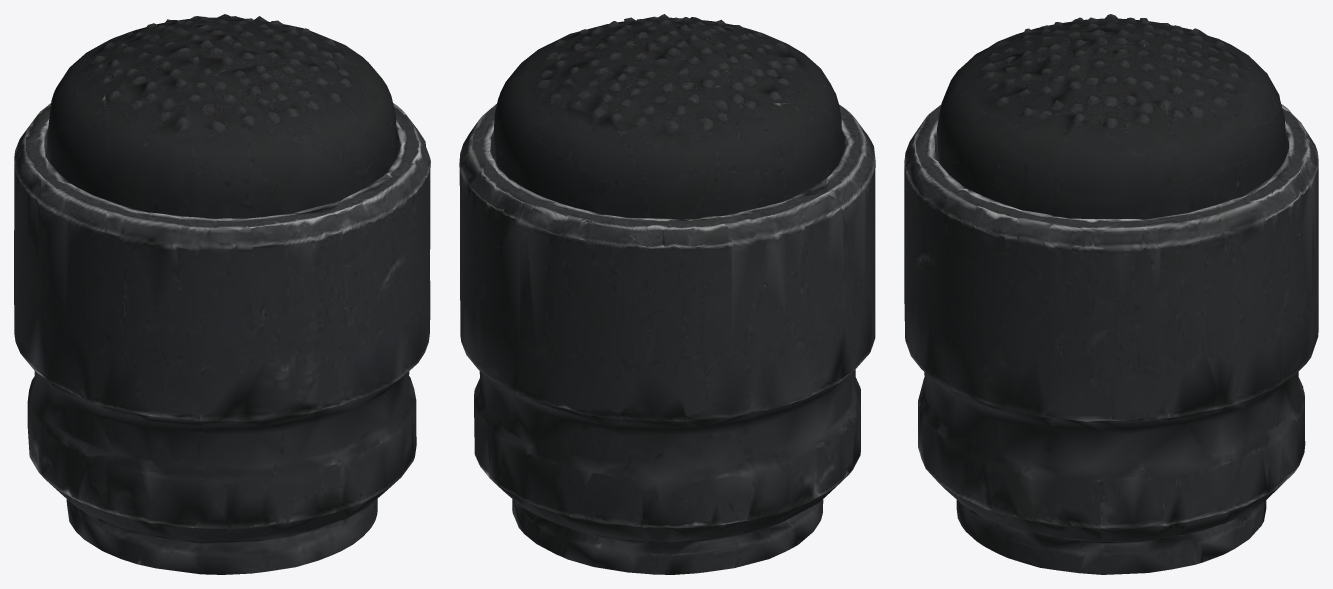
File: boton.glb
The picture shows the model from 3 angles, left to right: view 1: azimuth 30°, elevation 25°; view 2: azimuth 150°, elevation 25°; view 3: azimuth 270°, elevation 25°; orthographic projection.
Bounding box in the file's own units: 1.53 × 1.9 × 1.53.
Materials: 1 (1 with a texture image).
